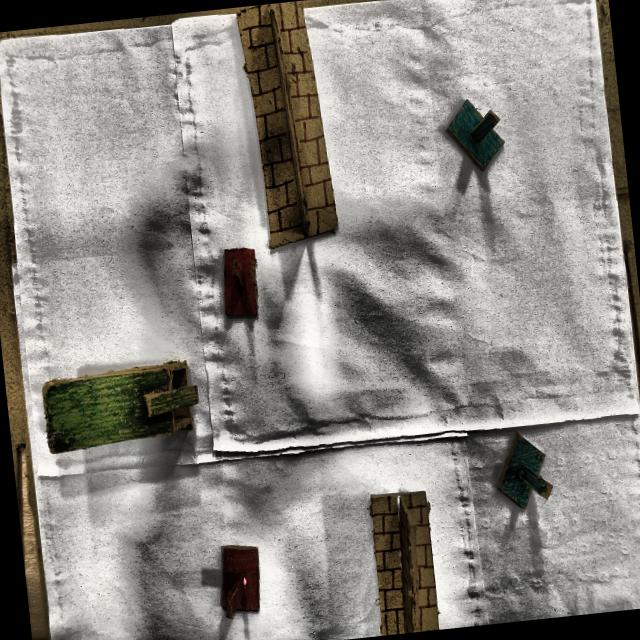Tank: (41, 360, 201, 473)
Wall: (237, 1, 339, 250), (369, 491, 438, 635)
enemy: (214, 537, 270, 622), (223, 247, 261, 321)
friend: (445, 100, 507, 179), (497, 431, 554, 514)
